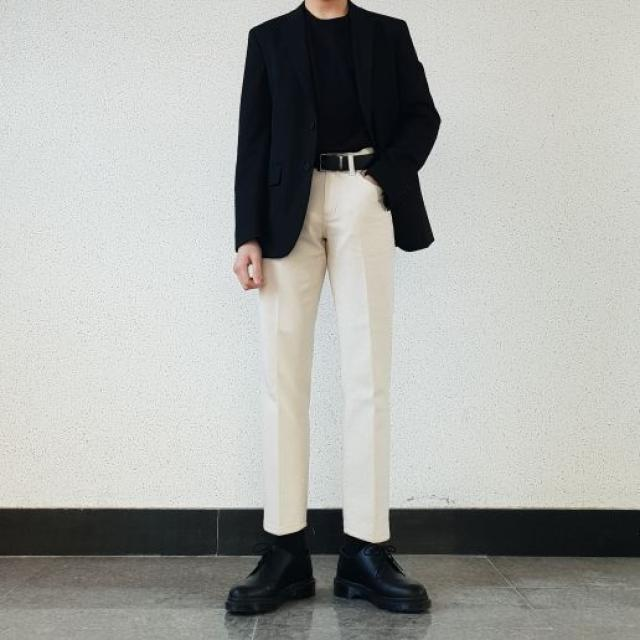blazer: (237, 0, 438, 265)
cottonpants: (261, 144, 394, 540)
